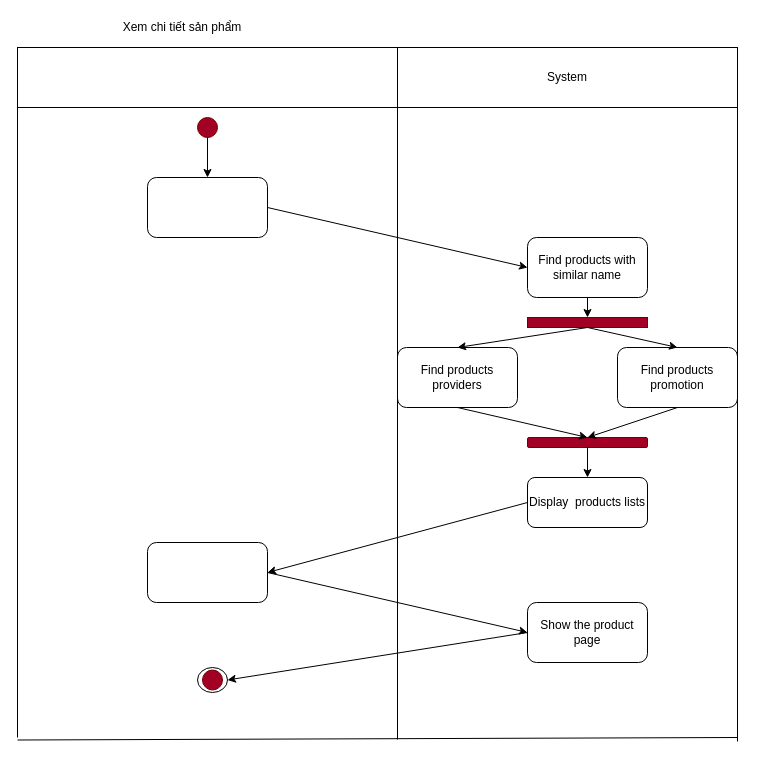
Some shapes in this 757 by 760 pixel diagram are drawn without their labels. Here are the shapes that lost their labels. From the top down, the centre of each, then its label:
pixel 207 77: Customer
pixel 207 207: Type product in search bar
pixel 207 572: User click on a product
